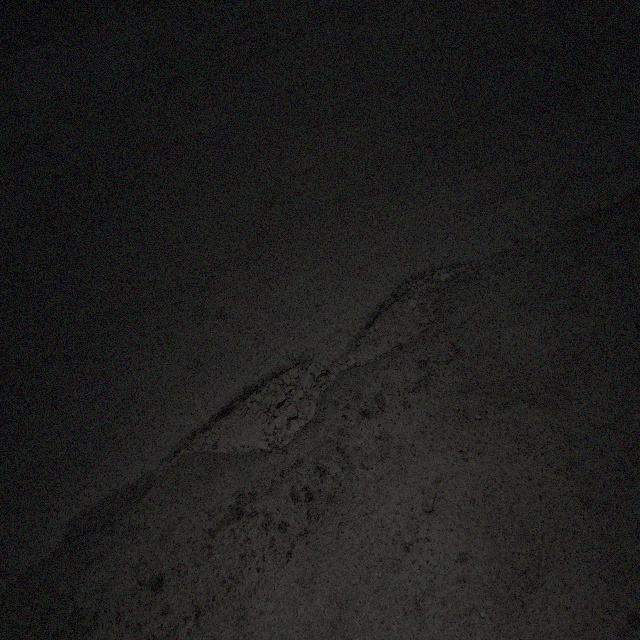pothole: (186, 349, 332, 466), (351, 262, 451, 370)
